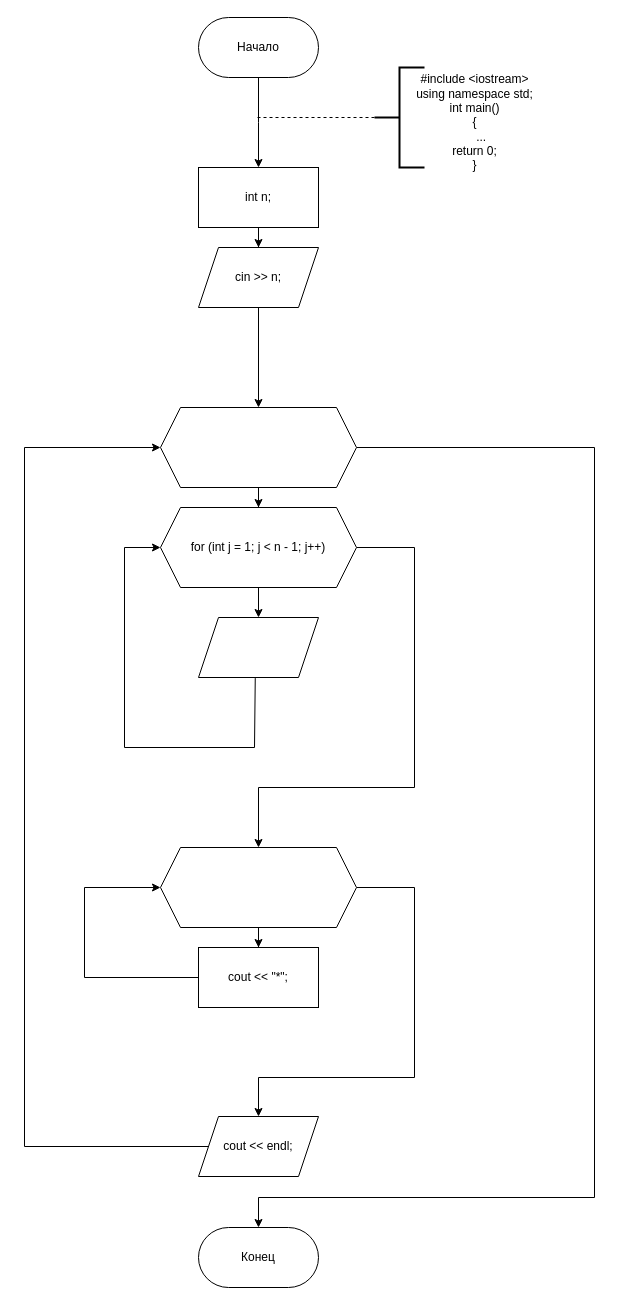
Some shapes in this 620 by 1305 pixel diagram are drawn without their labels. The centre of each missing label's shape, as x and y in pixels:
cout << " ";: point (258, 647)
for (int i = 0; i <= n; i++): point (258, 447)
for (int j = 1; j <=i ; j++): point (258, 887)
